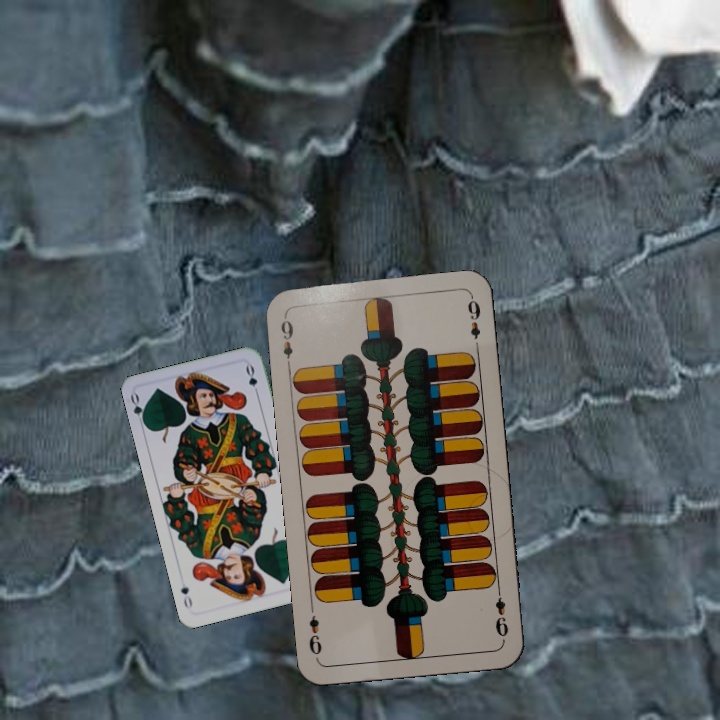E9: (491, 583, 511, 642), (276, 312, 296, 371)
GO: (126, 390, 149, 430)
